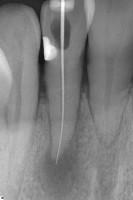Furcation Involvement: (35, 106, 81, 199)
